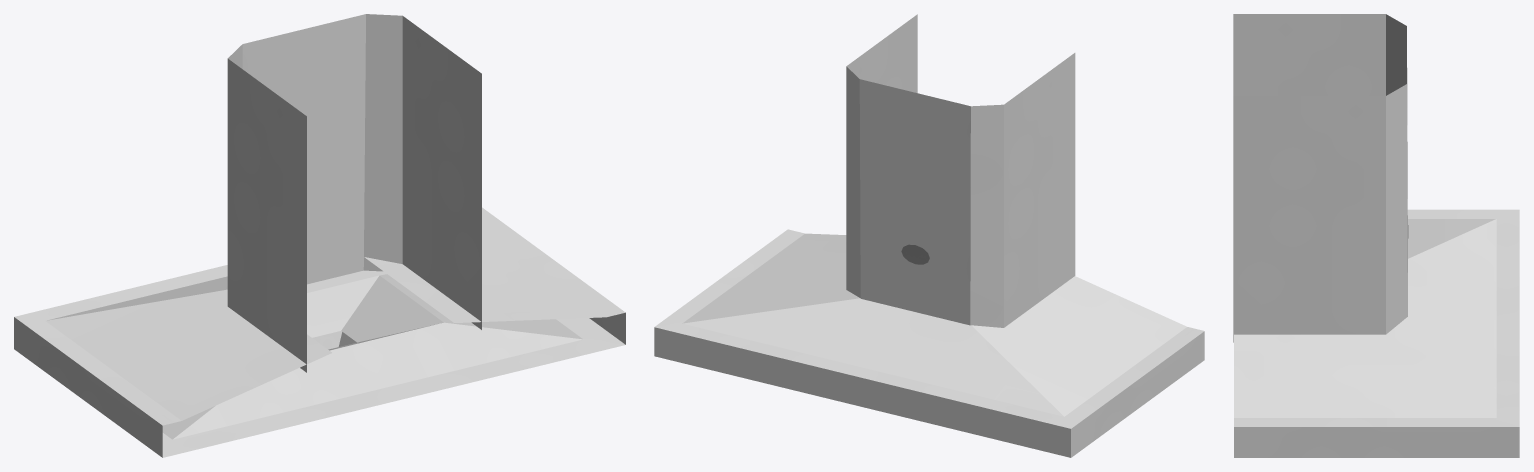
File: SM_YouYanJi.fbx
The picture shows the model from 3 angles, left to right: view 1: azimuth 30°, elevation 25°; view 2: azimuth 150°, elevation 25°; view 3: azimuth 270°, elevation 25°; orthographic projection. The views are drawn at different scales.
Parts seen in each view (by area): view 1: SM_YouYanJi; view 2: SM_YouYanJi; view 3: SM_YouYanJi.
Part boxes in pixels (left/top/right/bottom): SM_YouYanJi: left=14, top=14, right=625, bottom=457; SM_YouYanJi: left=654, top=14, right=1204, bottom=457; SM_YouYanJi: left=1233, top=14, right=1519, bottom=457.
Size of the model in its own units: 0.9 by 0.5921 by 0.501.
